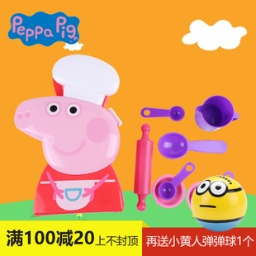Peppa: (14, 95, 127, 216)
